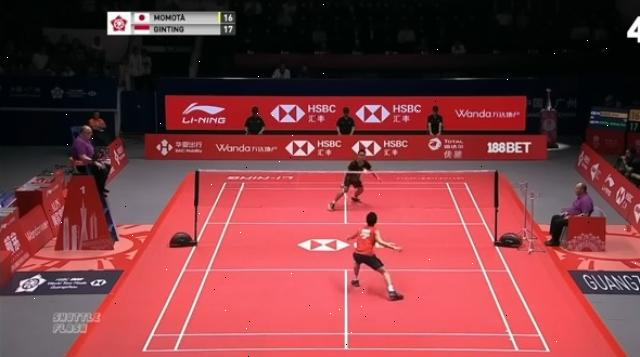Shuttlecock: (360, 168, 370, 174)
